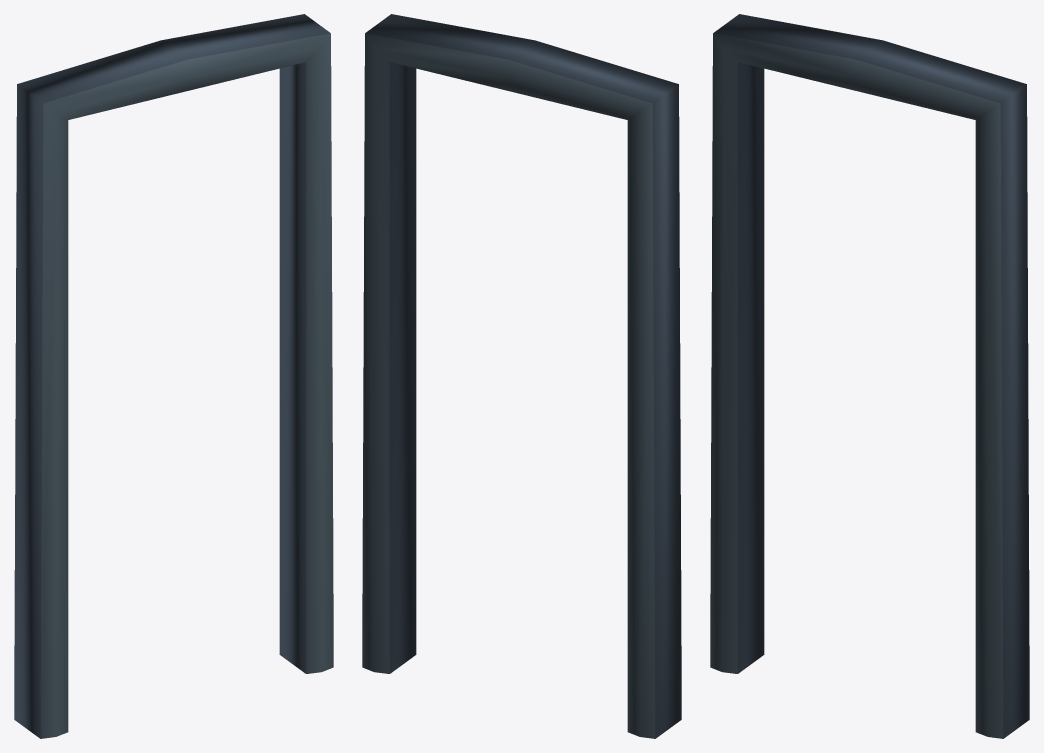
Rendered from Doorframe_Everywhere_V1.fbx.
3 renders of one model, left to right at view 1: azimuth 30°, elevation 25°; view 2: azimuth 150°, elevation 25°; view 3: azimuth 330°, elevation 25°, orthographic.
Parts seen in each view (by area): view 1: Cube.001; view 2: Cube.001; view 3: Cube.001.
Boxes of the visible parts, left/top/right/bottom form: Cube.001: left=14, top=14, right=333, bottom=738; Cube.001: left=362, top=14, right=681, bottom=738; Cube.001: left=710, top=14, right=1029, bottom=738.
Bounding box in the file's own units: 113 × 237 × 20.06.
